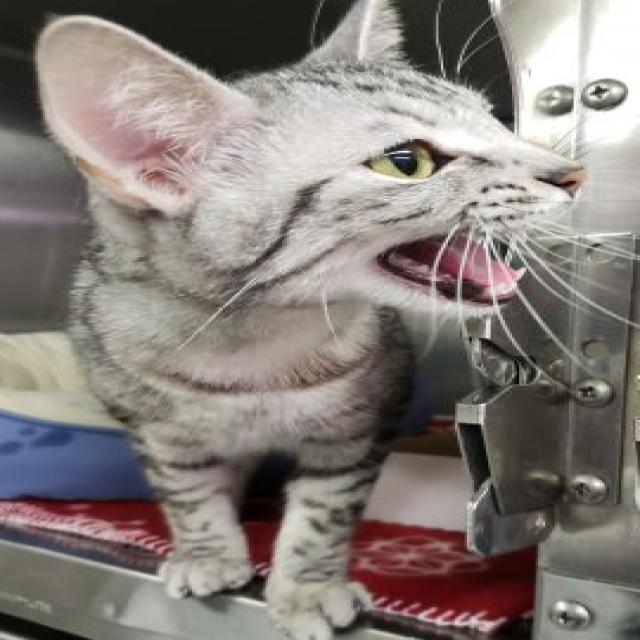Egyptian Mau: (28, 0, 586, 640)
